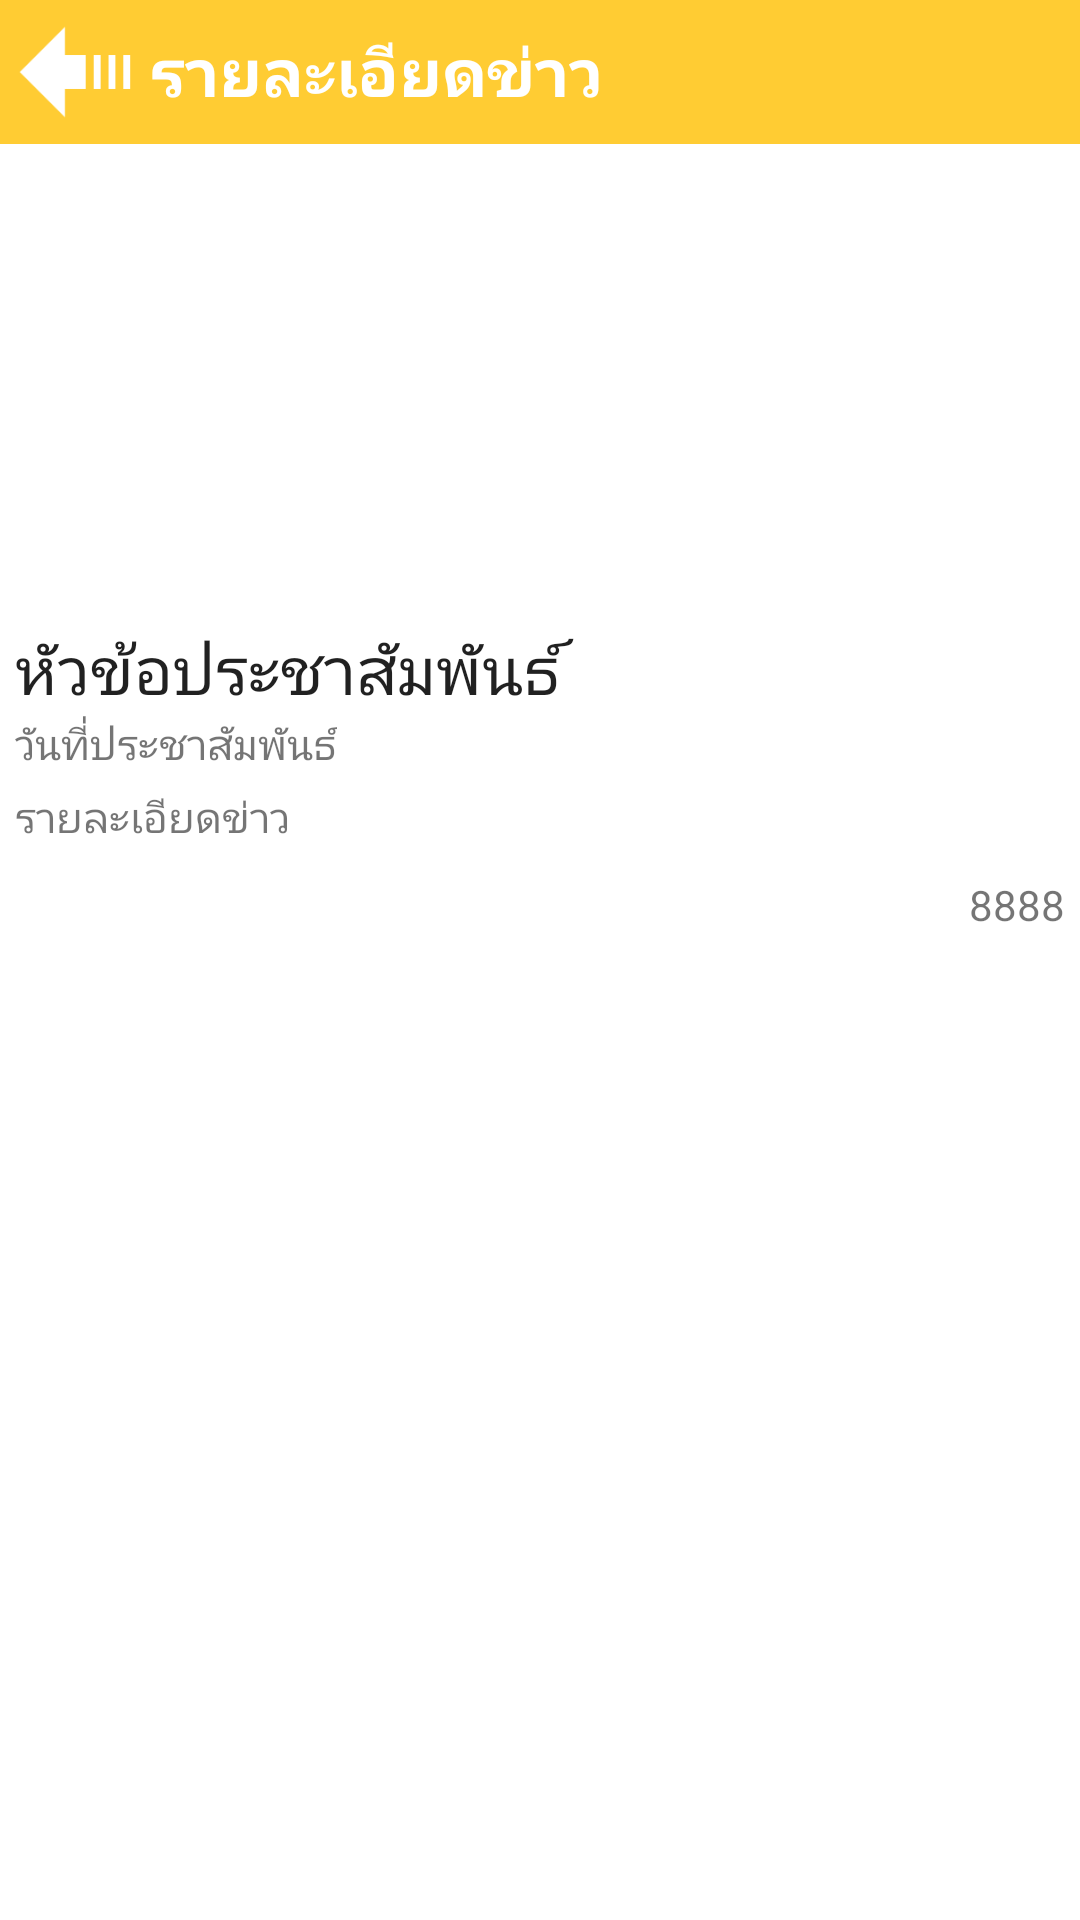

Icon bounding boxes for this 1080w x 1920h phone screenshot, format (x1, y1, x2, y2):
back: (20, 27, 131, 117)
